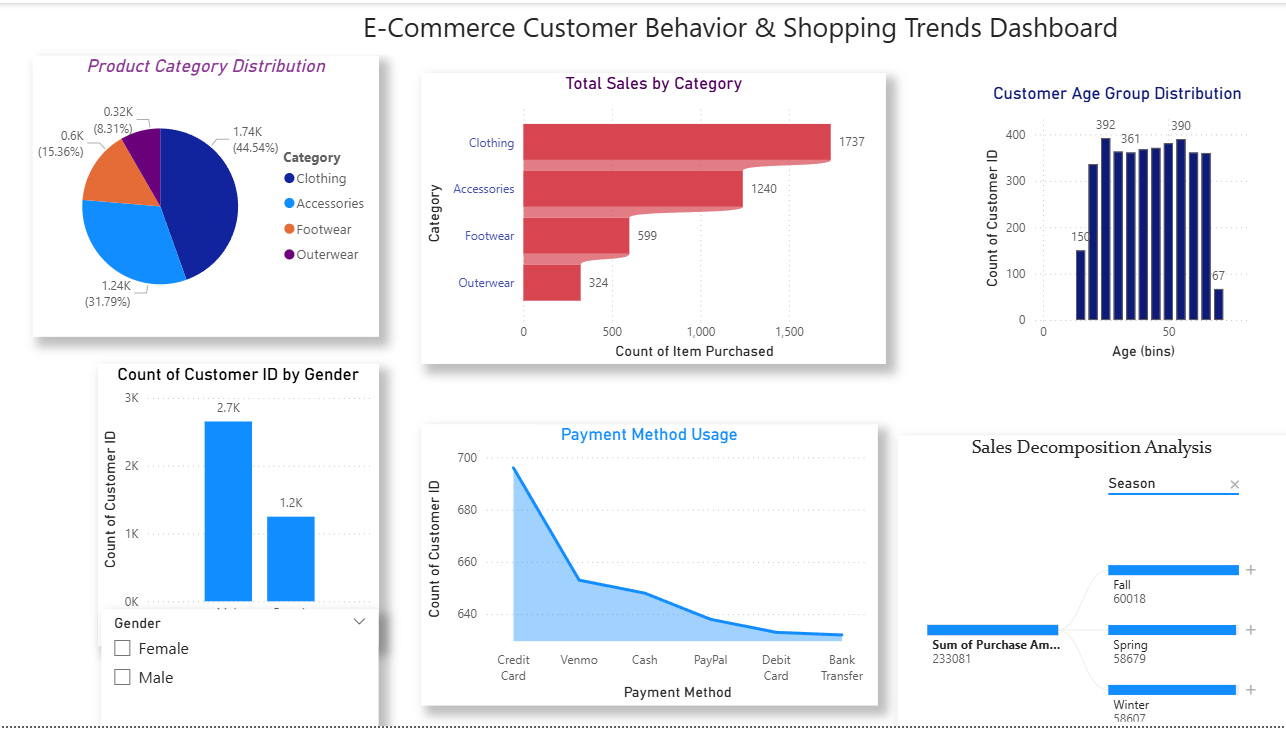

The page's visual inventory and layout, read from the dashboard file:
{"tool":"powerbi","page":{"name":"Page 1","canvas":[1280,720],"ordinal":0},"visuals":[{"type":"pieChart","title":"Product Category Distribution","fields":{"Category":["shopping_trends.Category"],"Y":["CountNonNull(shopping_trends.Customer ID)"]},"box":[32.3,52.2,344.6,279.9],"z":0},{"type":"areaChart","title":"Payment Method Usage","fields":{"Category":["shopping_trends.Payment Method"],"Y":["CountNonNull(shopping_trends.Customer ID)"]},"box":[419.2,419.2,454,279.9],"z":1000},{"type":"clusteredColumnChart","fields":{"Category":["shopping_trends.Gender"],"Y":["CountNonNull(shopping_trends.Customer ID)"]},"box":[97,359.5,279.9,279.9],"z":2000},{"type":"barChart","title":"Total Sales by Category","fields":{"Category":["shopping_trends.Category"],"Y":["CountNonNull(shopping_trends.Item Purchased)"]},"box":[419.2,69.7,462.8,289.8],"z":3000},{"type":"clusteredColumnChart","title":"Customer Age Group Distribution","fields":{"Category":["shopping_trends.Age (bins)"],"Y":["CountNonNull(shopping_trends.Customer ID)"]},"box":[974,79.6,276.2,279.9],"z":4000},{"type":"slicer","fields":{"Values":["shopping_trends.Gender"]},"box":[100.2,603.8,275.8,116.6],"z":5000},{"type":"decompositionTreeVisual","title":"Sales Decomposition Analysis","fields":{"Analyze":["Sum(shopping_trends.Purchase Amount (USD))"],"ExplainBy":["shopping_trends.Season","shopping_trends.Age","shopping_trends.Frequency of Purchases","shopping_trends.Payment Method","shopping_trends.Category","shopping_trends.Gender"]},"box":[893.2,430.4,386.9,289.8],"z":6000},{"type":"textbox","box":[237.6,0,998.9,51],"z":7000}]}

Visuals, with their boxes in screenshot pixels (x1, y1, x2, y2), scaled from the page's 1280x720 canvas onto the 1286x730 screenshot:
"Product Category Distribution" pieChart: bbox=[32, 53, 379, 337]
"Payment Method Usage" areaChart: bbox=[421, 425, 877, 709]
clusteredColumnChart - shopping_trends.Gender x CountNonNull(shopping_trends.Customer ID): bbox=[97, 364, 379, 648]
"Total Sales by Category" barChart: bbox=[421, 71, 886, 364]
"Customer Age Group Distribution" clusteredColumnChart: bbox=[979, 81, 1256, 364]
slicer - shopping_trends.Gender: bbox=[101, 612, 378, 729]
"Sales Decomposition Analysis" decompositionTreeVisual: bbox=[897, 436, 1285, 729]
textbox: bbox=[239, 0, 1242, 52]
